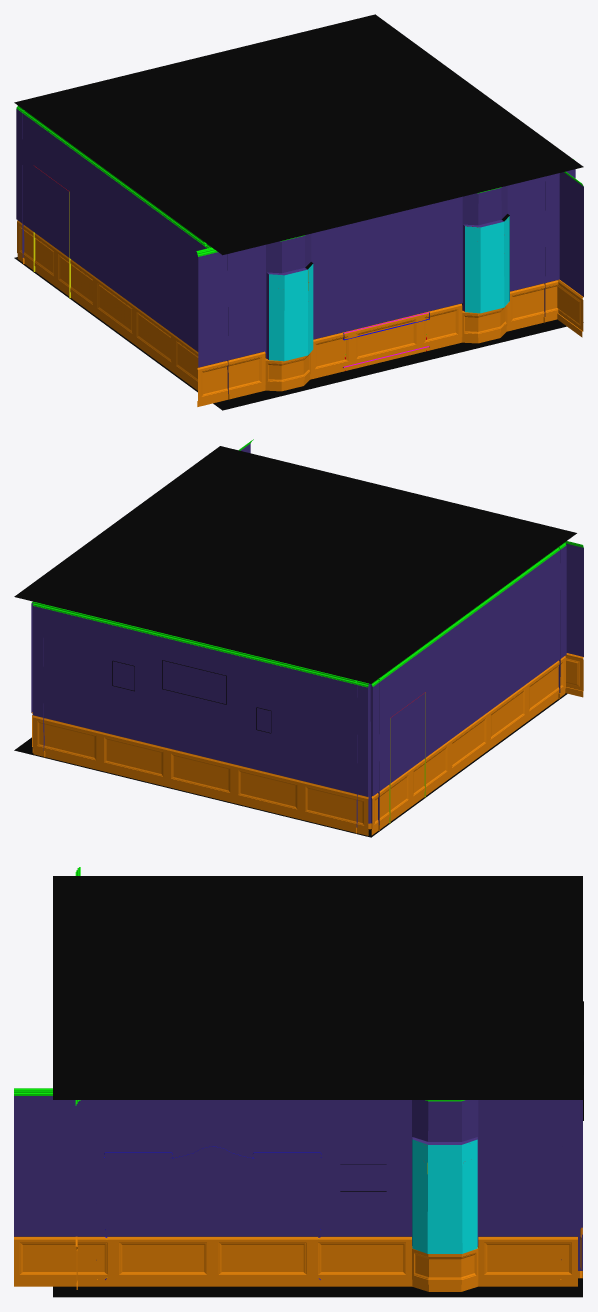
Rendered from SM_Blockout_001.fbx.
The picture shows the model from 3 angles, top to bottom: view 1: azimuth 30°, elevation 25°; view 2: azimuth 150°, elevation 25°; view 3: azimuth 270°, elevation 25°; orthographic projection. The views are drawn at different scales.
Parts seen in each view (by area): view 1: SM_Blockout_001; view 2: SM_Blockout_001; view 3: SM_Blockout_001.
Part boxes in pixels (x1,y1,x2,y2): SM_Blockout_001: (14, 14, 583, 410); SM_Blockout_001: (14, 439, 583, 837); SM_Blockout_001: (14, 867, 583, 1297).
Size of the model in its own units: 872 by 344 by 898.
